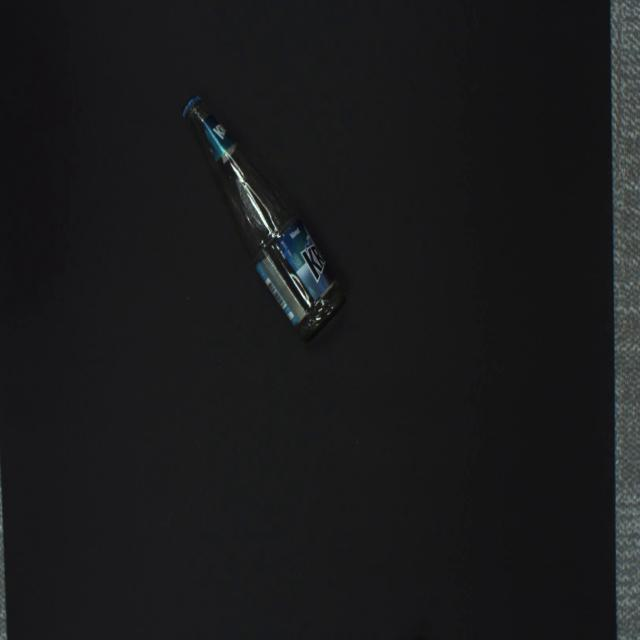beer-bottle: (181, 94, 347, 341)
